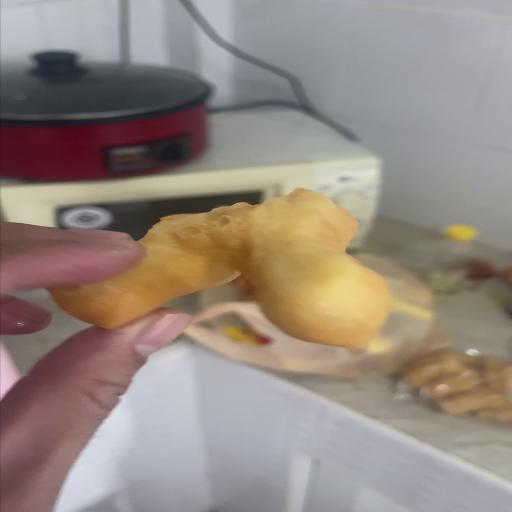street_golden_defect: (49, 189, 392, 349)
